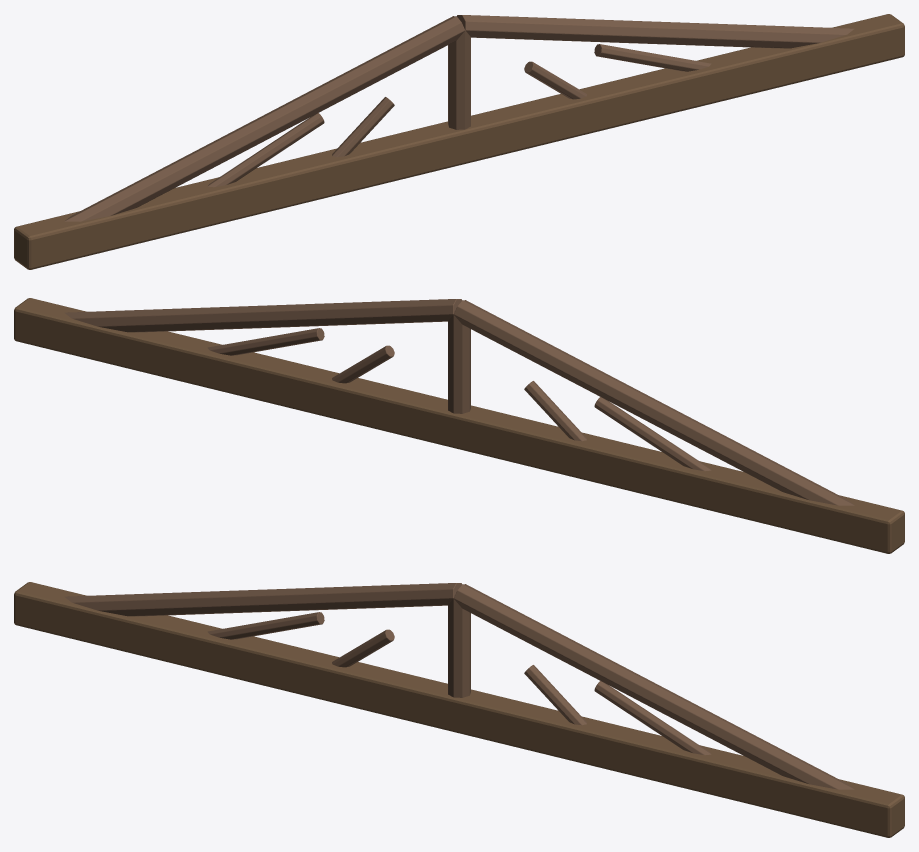
File: roof_truss.glb
3 views of the same model, one above another, from view 1: azimuth 30°, elevation 25°; view 2: azimuth 150°, elevation 25°; view 3: azimuth 330°, elevation 25° (orthographic).
Parts seen in each view (by area): view 1: roof_truss; view 2: roof_truss; view 3: roof_truss.
Boxes of the visible parts, x1,y1,x2,y2 form: roof_truss: (14,14,904,269); roof_truss: (14,298,904,553); roof_truss: (14,582,904,837).
Size of the model in its own units: 3.8 by 0.5926 by 0.12.
